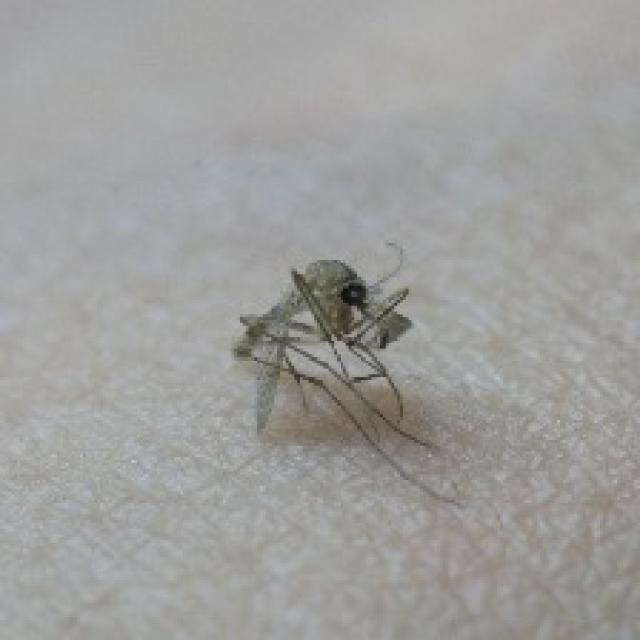culex: (228, 237, 463, 506)
